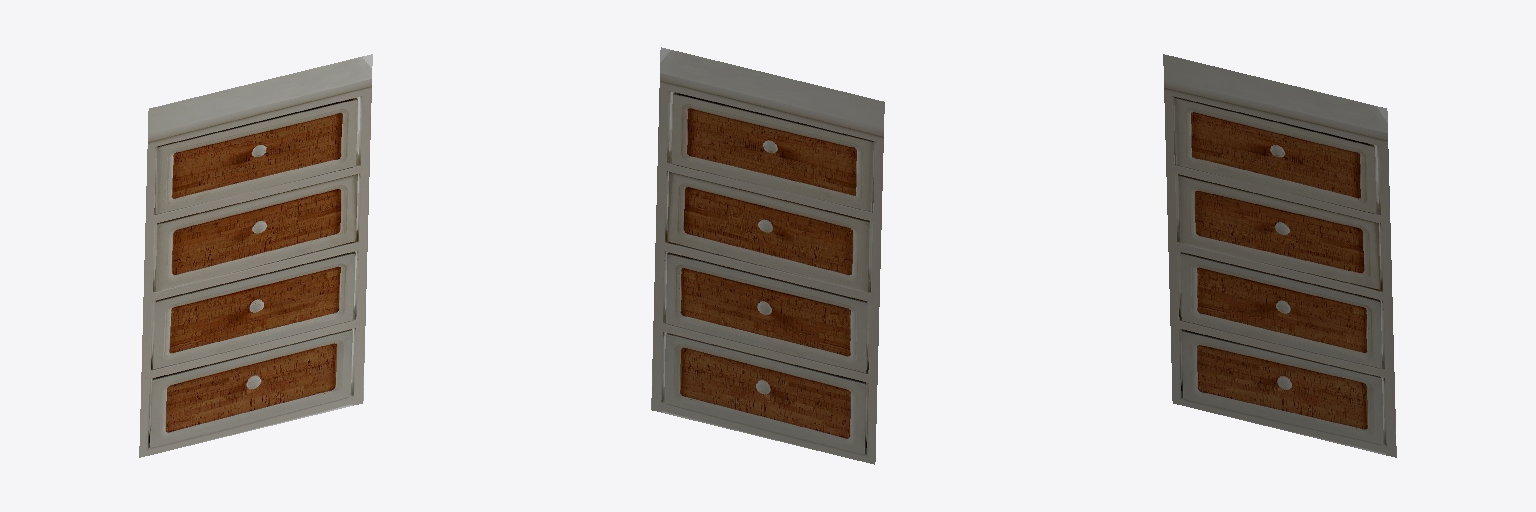
3 renders of one model, left to right at view 1: azimuth 30°, elevation 25°; view 2: azimuth 150°, elevation 25°; view 3: azimuth 330°, elevation 25°, orthographic.
Parts seen in each view (by area): view 1: pPlane1; view 2: pPlane1; view 3: pPlane1.
Part boxes in pixels (bbox=[...]): pPlane1: bbox=[139, 54, 372, 457]; pPlane1: bbox=[651, 47, 884, 464]; pPlane1: bbox=[1163, 54, 1396, 457].
Bounding box in the file's own units: 1 × 1.52 × 0.0725.
1 materials, 1 textured.